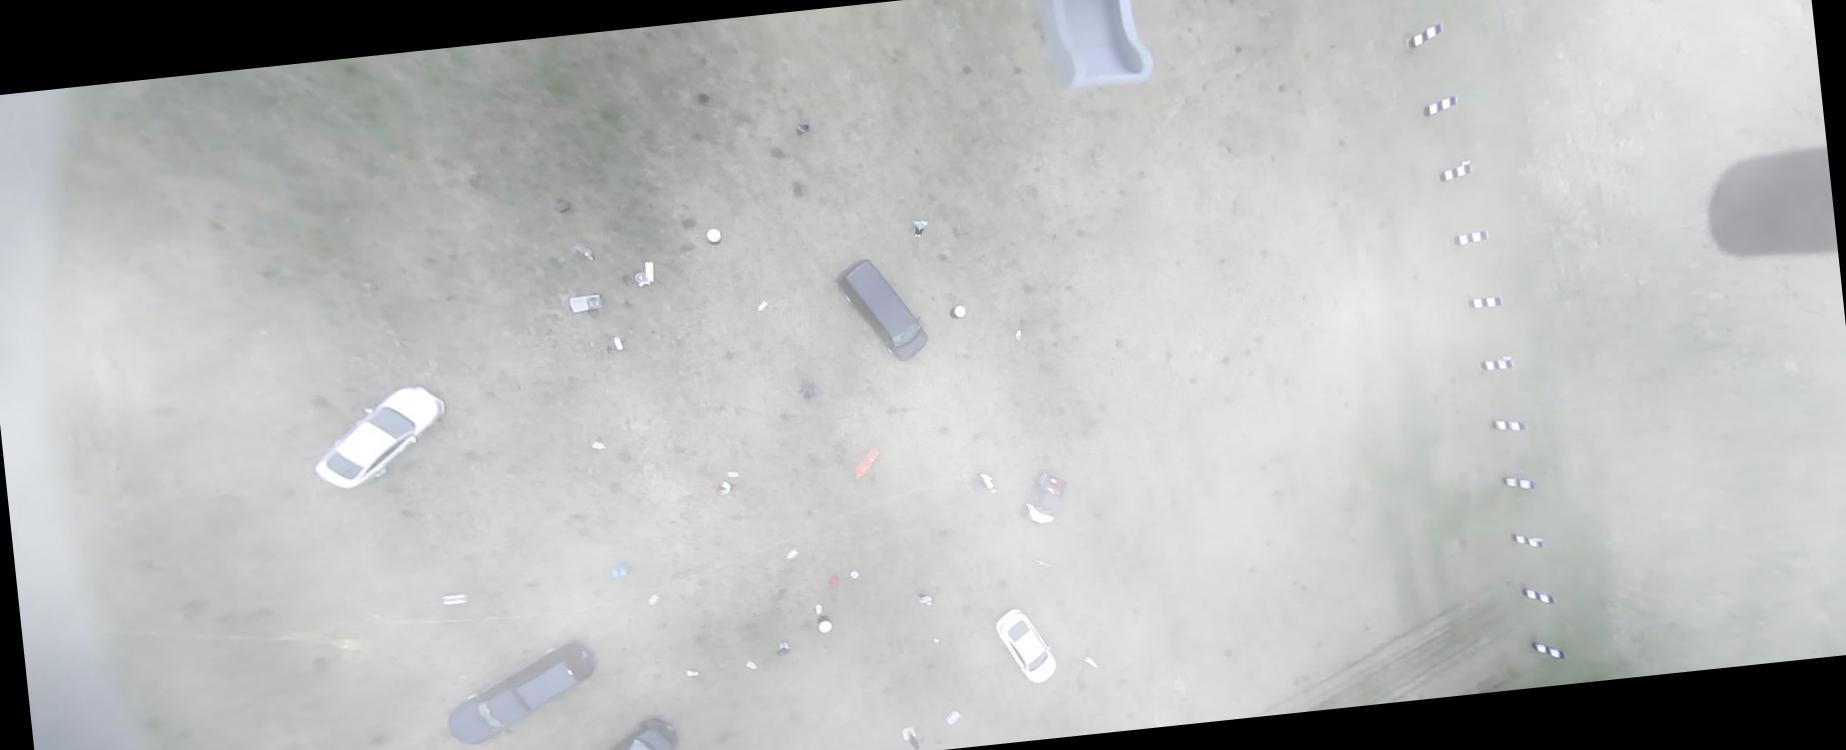vehicle: (440, 638, 602, 748), (307, 383, 453, 493), (832, 252, 930, 368), (993, 604, 1058, 687), (557, 714, 683, 749), (1014, 468, 1072, 526)
